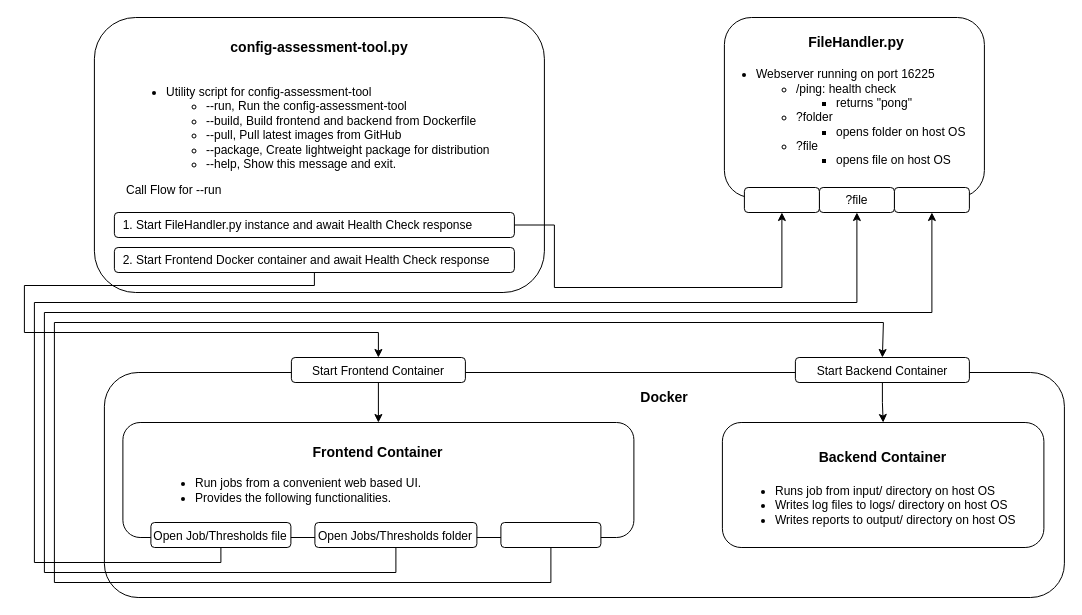
The diagram is 1082 pixels wide and 615 high, and some of its shapes have lost their labels. Here are the shapes that lost their labels. From the top down, the centre of each, then its label:
At point 781,199: "/ping".
At point 931,199: "?folder".
At point 550,535: "Run Job".
